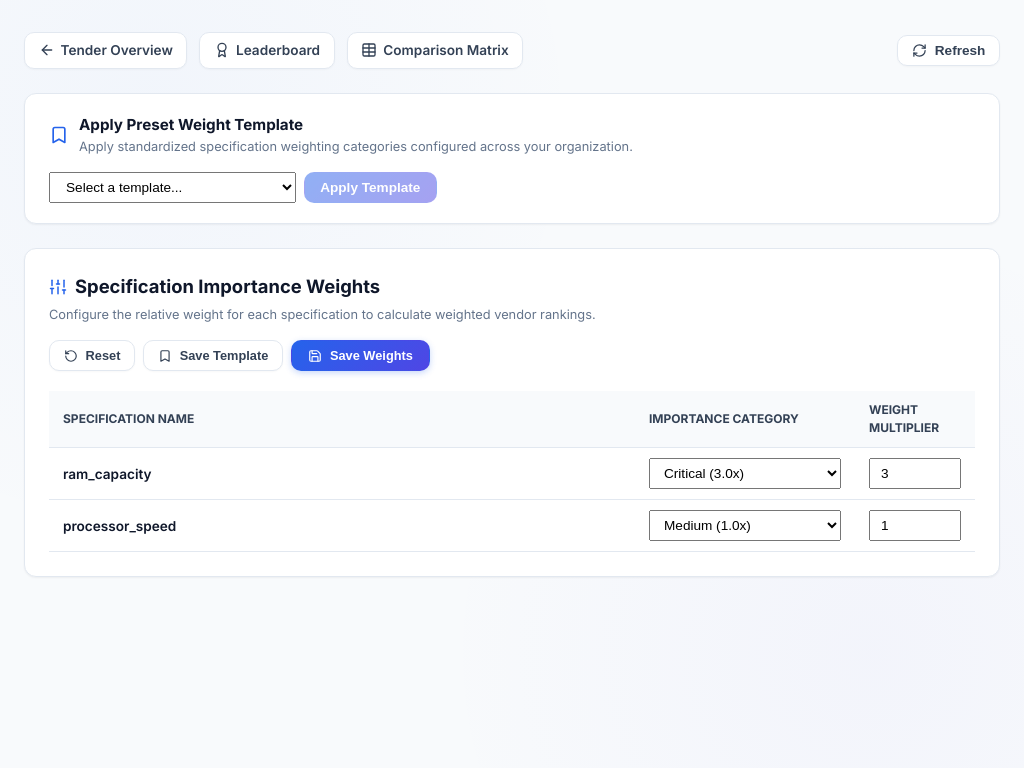
Test case: WeightConfigPage › applies selected template when Apply Template is clicked
Check: the button "Apply Template" is shown, box [304, 172, 437, 203]
Step 1. Select "High Performance RFP (1 specs)" in the dropdown showing "Select a template..." below "Apply Preset Weight Template" → (172, 187), box [49, 172, 296, 203]
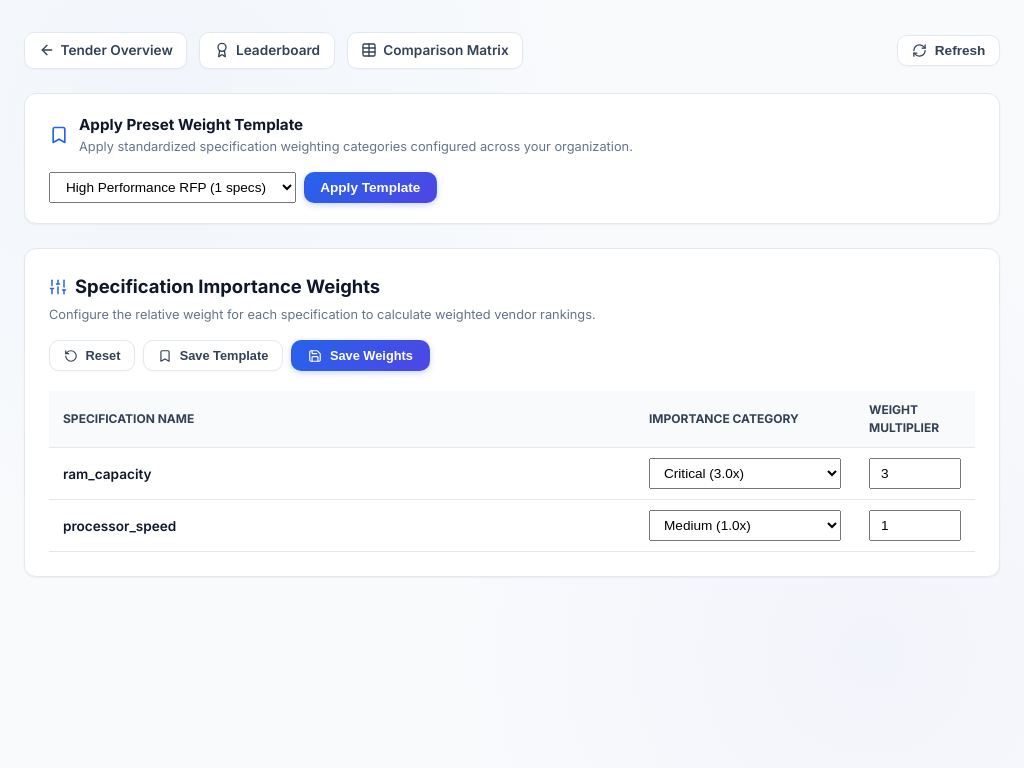
Check: the button "Apply Template" is enabled
Step 2. Click the button "Apply Template" → (370, 188), box [304, 172, 437, 203]
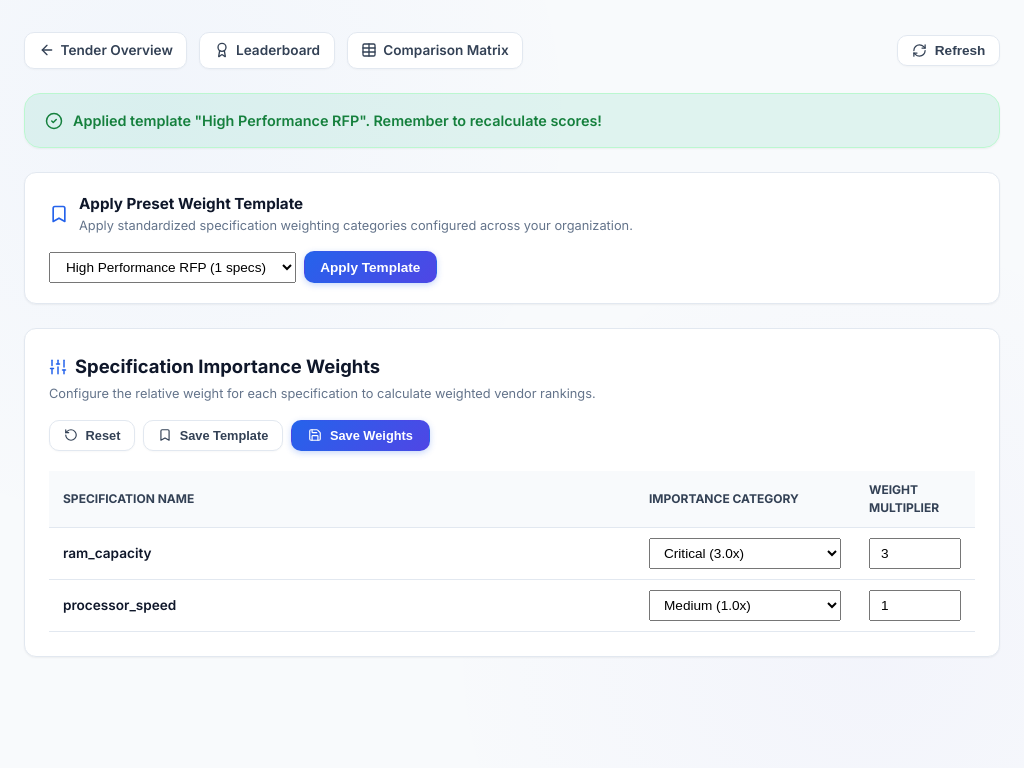
Check: the text "Applied template \"High Performance RFP\"" is shown, box [73, 112, 602, 129]
